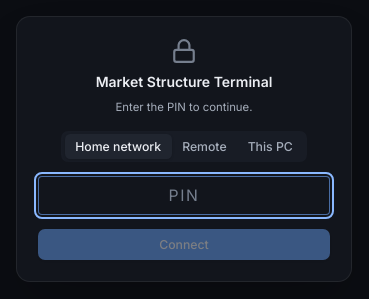
Test case: AuthGate › Remote tab › offers a Connect button through the tunnel when on a different host
Click the radio button labelled "Remote": (204, 146) [172,134,237,158]
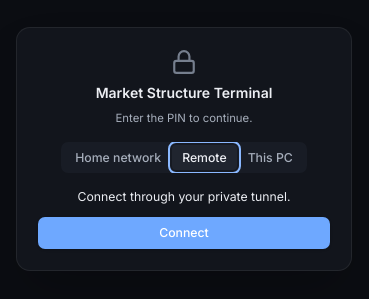
Expected: the text "Connect through your private tunnel." is shown, [78,189,290,204]
Expected: the button "Connect" is shown, [38,217,330,249]
